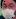with_mask: (2, 1, 16, 19)
